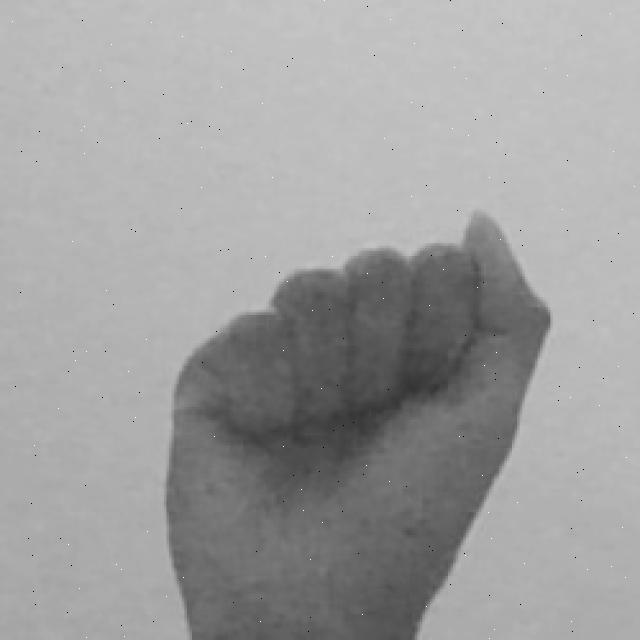A: (161, 202, 561, 640)
